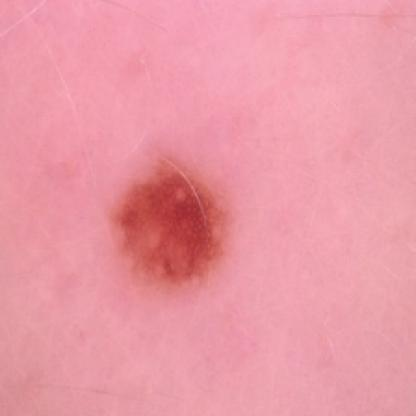benign: (117, 162, 227, 282)
